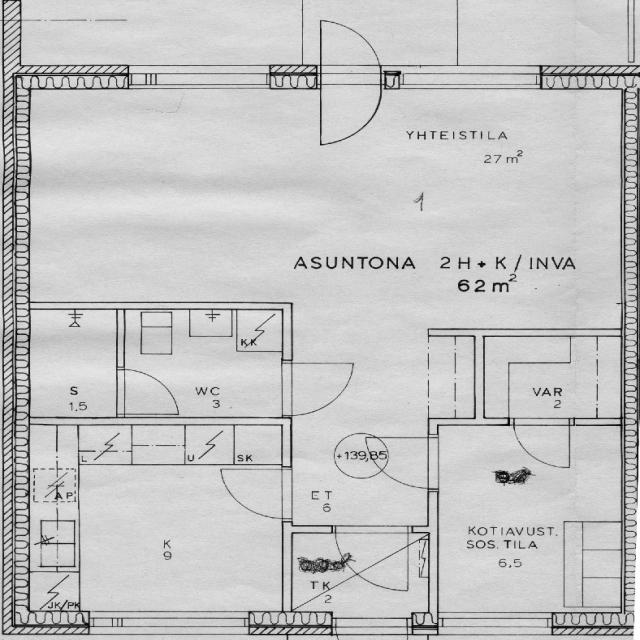door: (335, 526, 408, 594), (320, 14, 381, 89), (320, 66, 381, 140), (282, 363, 354, 415), (368, 438, 438, 488), (222, 469, 292, 518), (514, 418, 569, 472), (116, 369, 178, 414)
